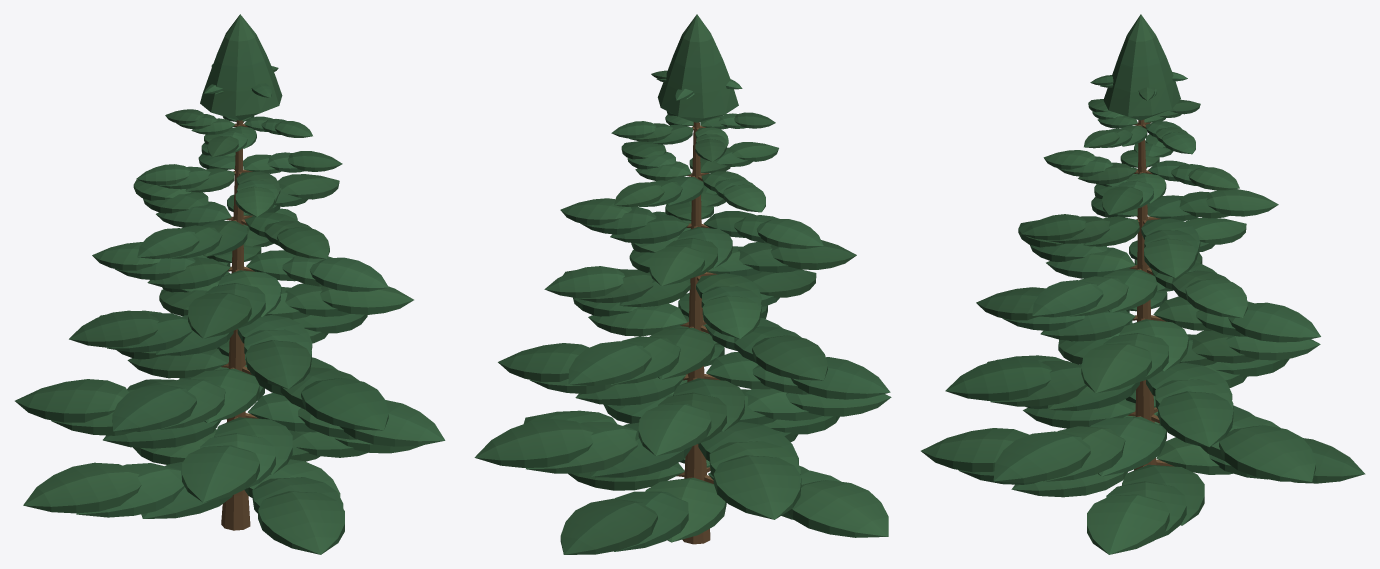
File: l-fir.glb
The picture shows the model from 3 angles, left to right: view 1: azimuth 30°, elevation 25°; view 2: azimuth 150°, elevation 25°; view 3: azimuth 270°, elevation 25°; orthographic projection. The views are drawn at different scales.
Parts seen in each view (by area): view 1: LowPolyConiferCanopy, LowPolyConiferWood; view 2: LowPolyConiferCanopy, LowPolyConiferWood; view 3: LowPolyConiferCanopy, LowPolyConiferWood.
Boxes of the visible parts, x1,y1,x2,y2 form: LowPolyConiferCanopy: (15, 14, 445, 554); LowPolyConiferWood: (221, 120, 258, 530); LowPolyConiferCanopy: (474, 14, 891, 554); LowPolyConiferWood: (676, 122, 720, 544); LowPolyConiferCanopy: (921, 14, 1365, 554); LowPolyConiferWood: (1127, 119, 1174, 470).
Size of the model in its own units: 1.94 by 2.45 by 1.94.
